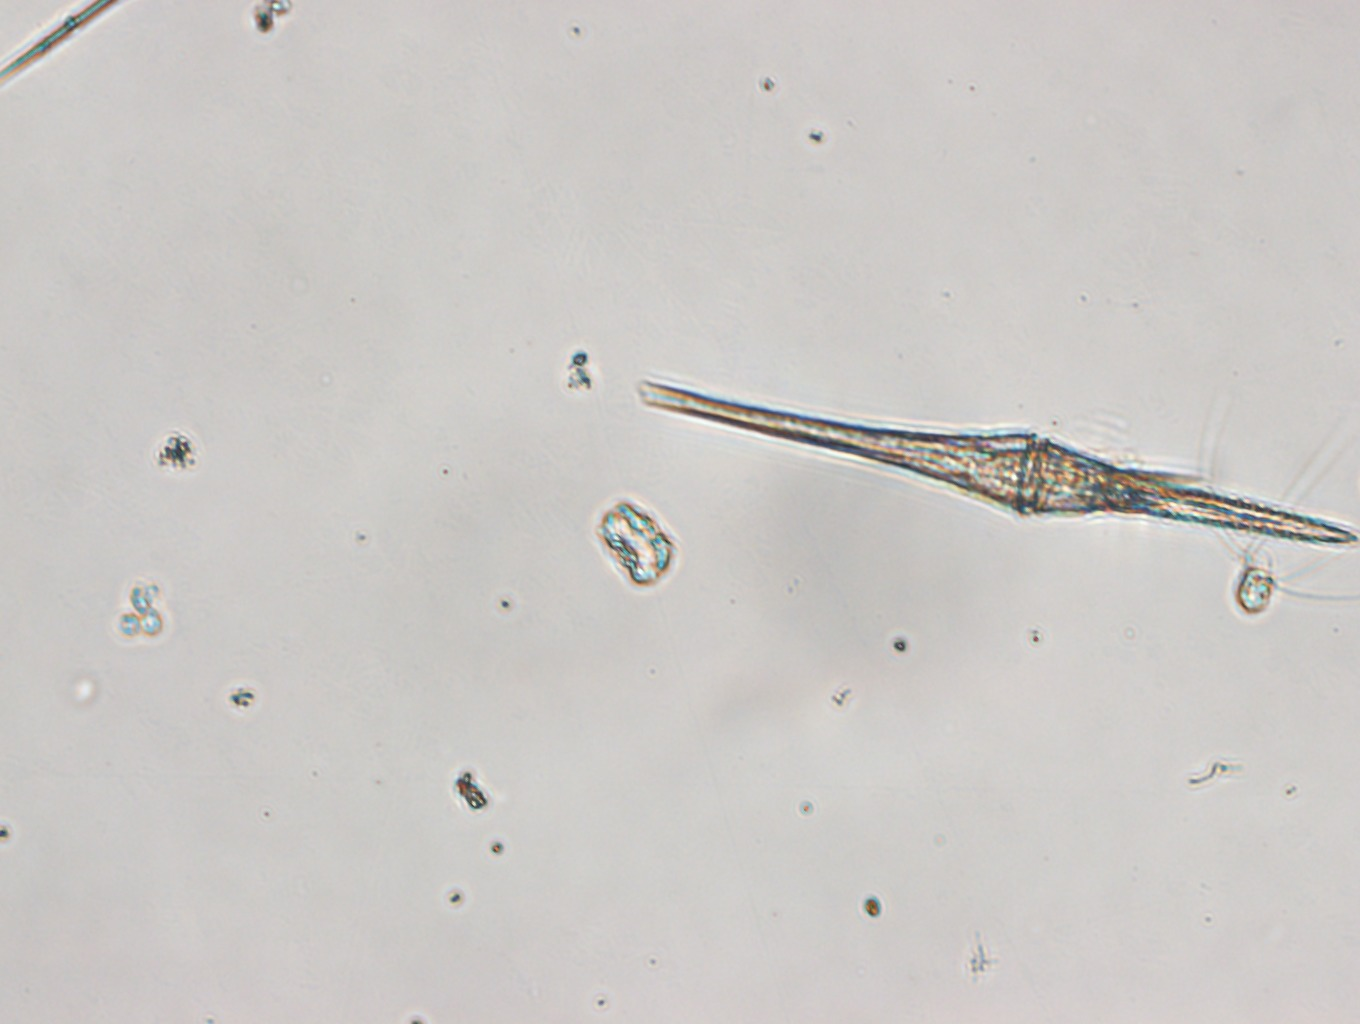ceratium furca: (636, 376, 1360, 547)
chaetoceros: (1205, 388, 1360, 616)
